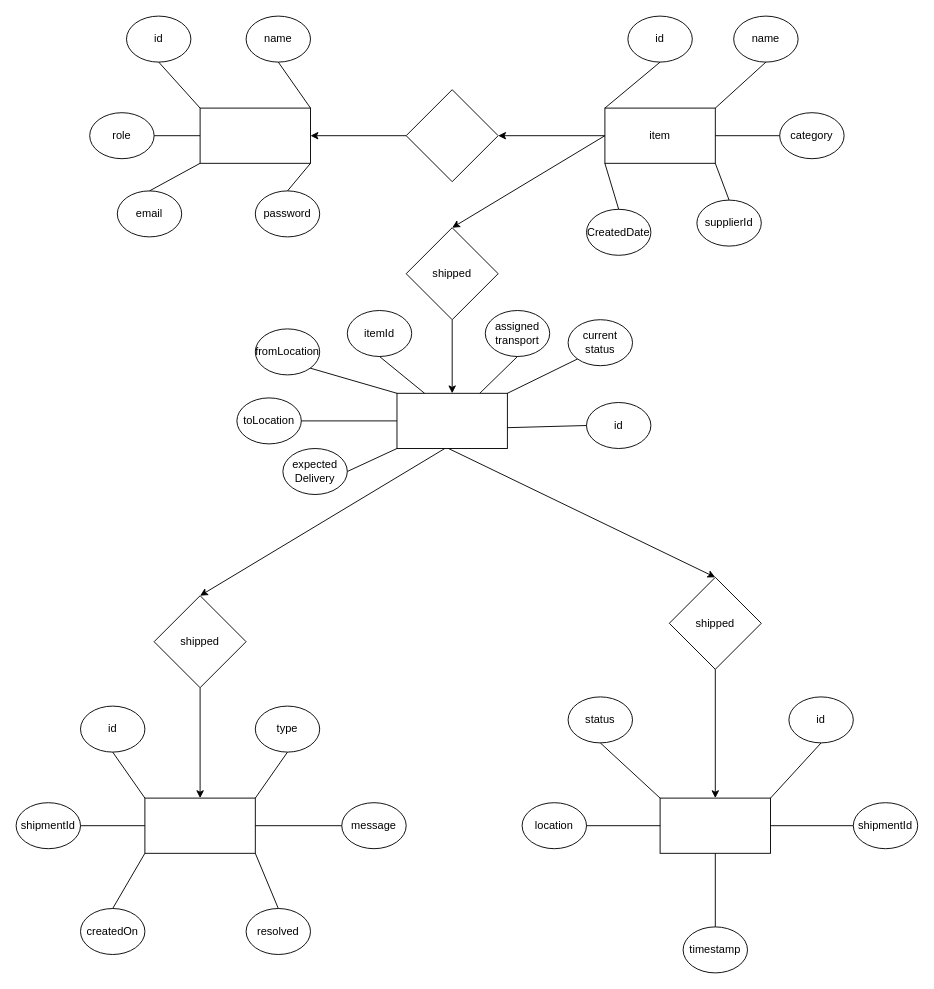
Some shapes in this 934 by 989 pixel diagram are drawn without their labels. The shapes that lost their labels are listed below. From the top down, each one's centre as x and y in pixels, then its label:
At pixel 254 135: "user".
At pixel 451 135: "deliver".
At pixel 451 420: "Shipment".
At pixel 199 825: "Alert".
At pixel 714 825: "CheckpointLog".
